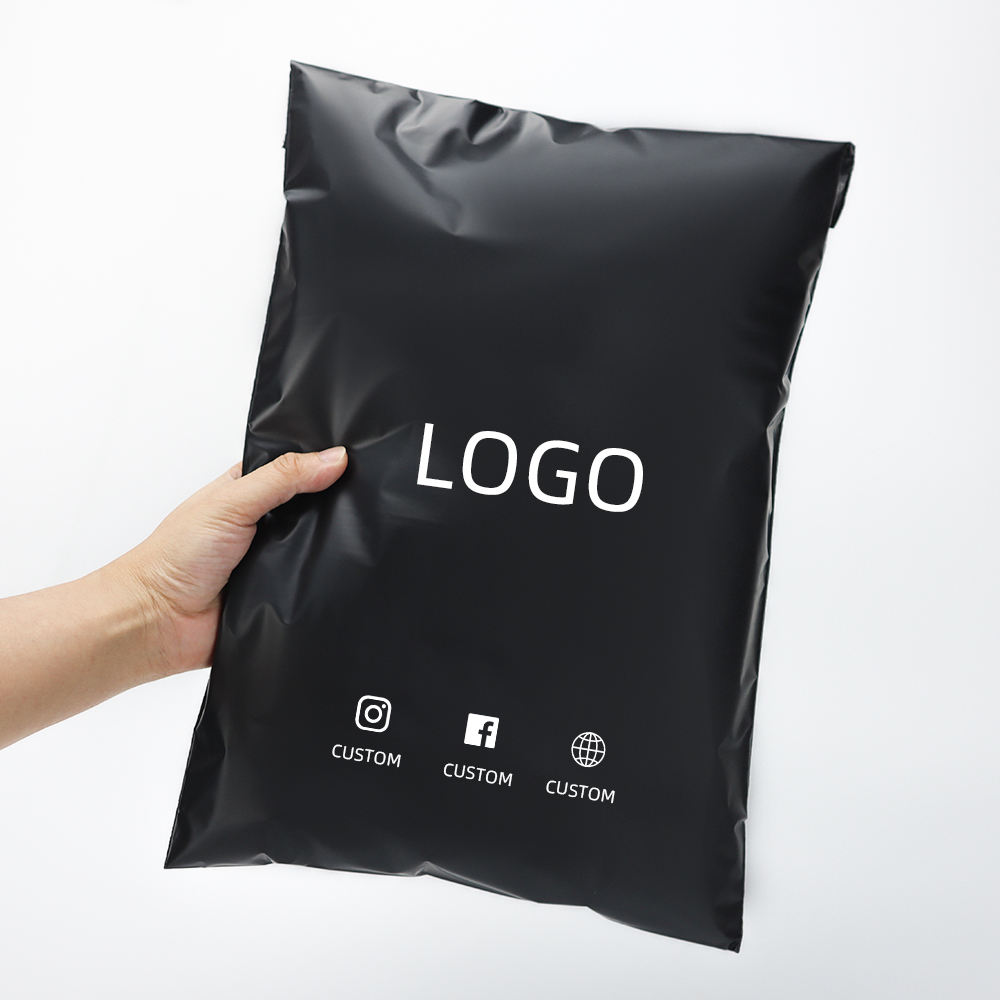Parcel: (166, 62, 854, 950)
